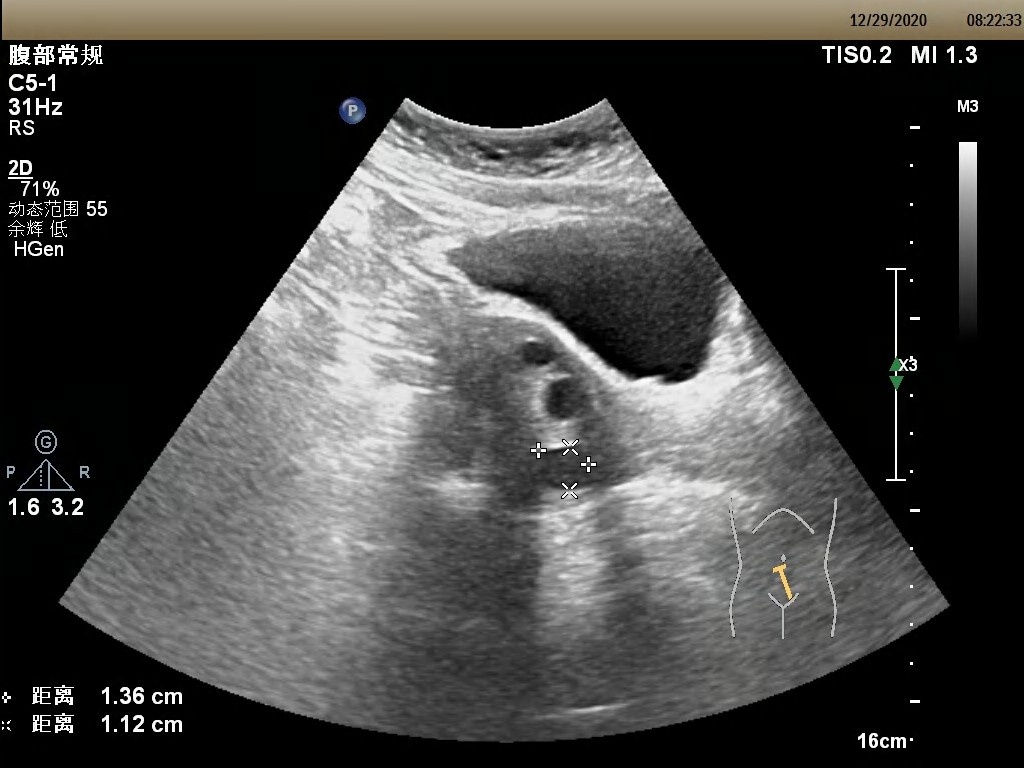肌瘤: (539, 448, 590, 493)
